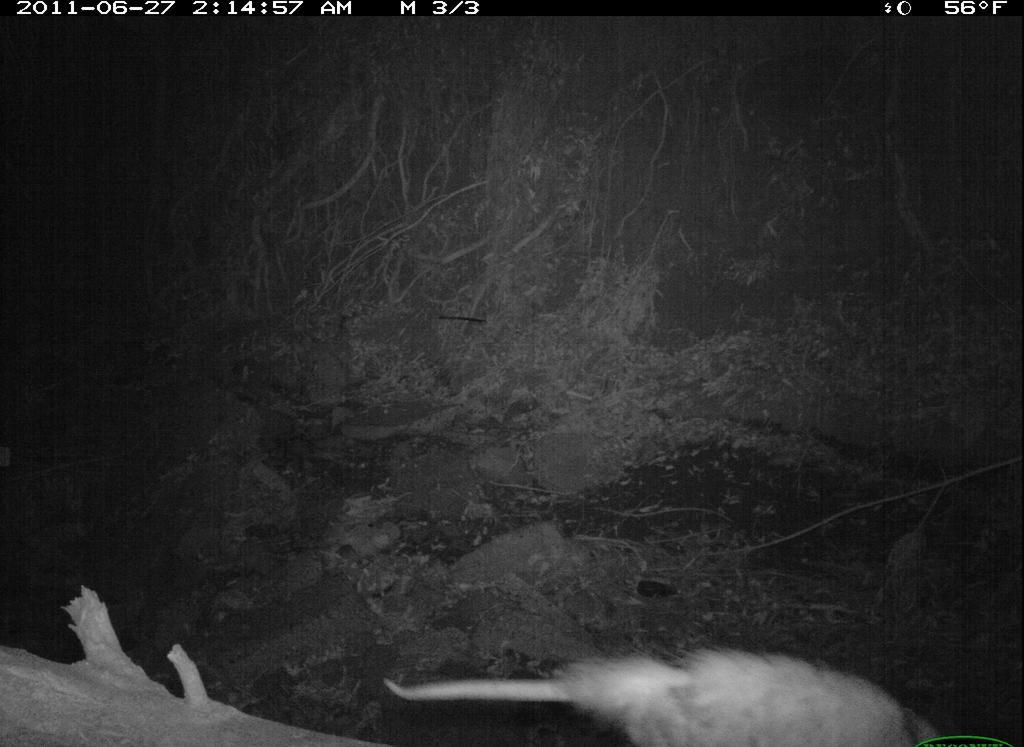opossum: (359, 637, 953, 747)
